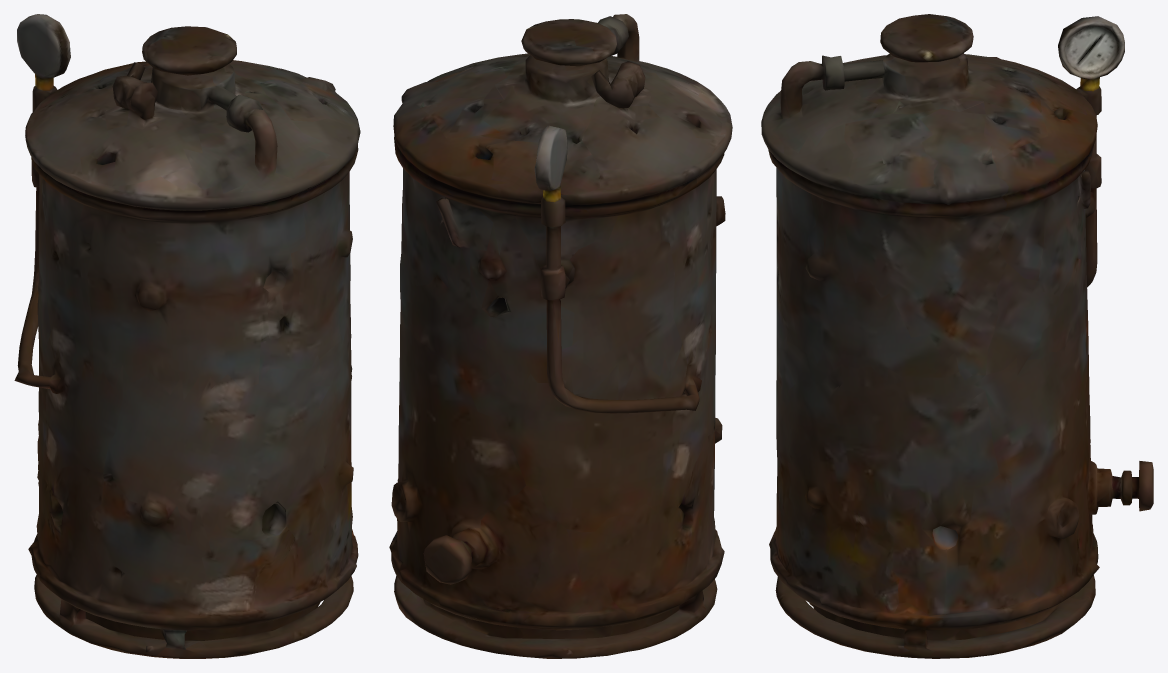
File: de_boiler.glb
3 renders of one model, left to right at view 1: azimuth 30°, elevation 25°; view 2: azimuth 150°, elevation 25°; view 3: azimuth 270°, elevation 25°, orthographic.
Parts seen in each view (by area): view 1: tripo_node_5c3df5cc-352b-488c-ac0b-58159baad1fe; view 2: tripo_node_5c3df5cc-352b-488c-ac0b-58159baad1fe; view 3: tripo_node_5c3df5cc-352b-488c-ac0b-58159baad1fe.
Part boxes in pixels (<box>): tripo_node_5c3df5cc-352b-488c-ac0b-58159baad1fe: <box>14,14,360,658</box>; tripo_node_5c3df5cc-352b-488c-ac0b-58159baad1fe: <box>389,14,732,658</box>; tripo_node_5c3df5cc-352b-488c-ac0b-58159baad1fe: <box>761,14,1153,658</box>.
Size of the model in its own units: 0.5751 by 1 by 0.6341.
1 material, 1 textured.
